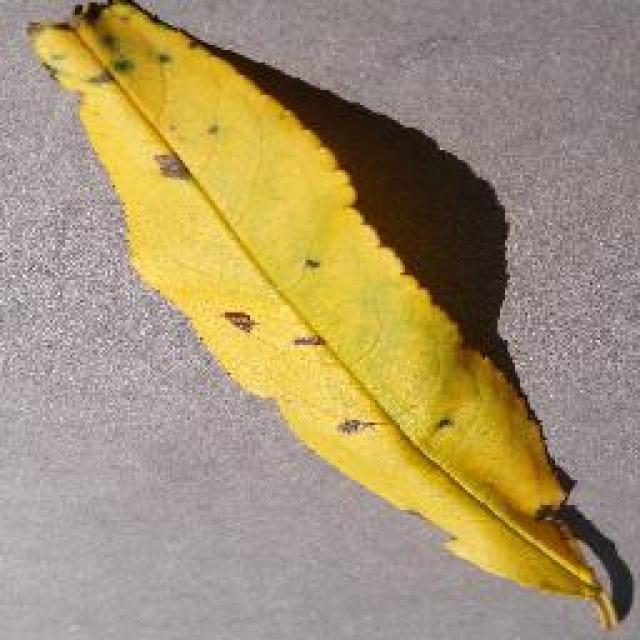Peach_Bacterial_Spot: (59, 28, 414, 397)
